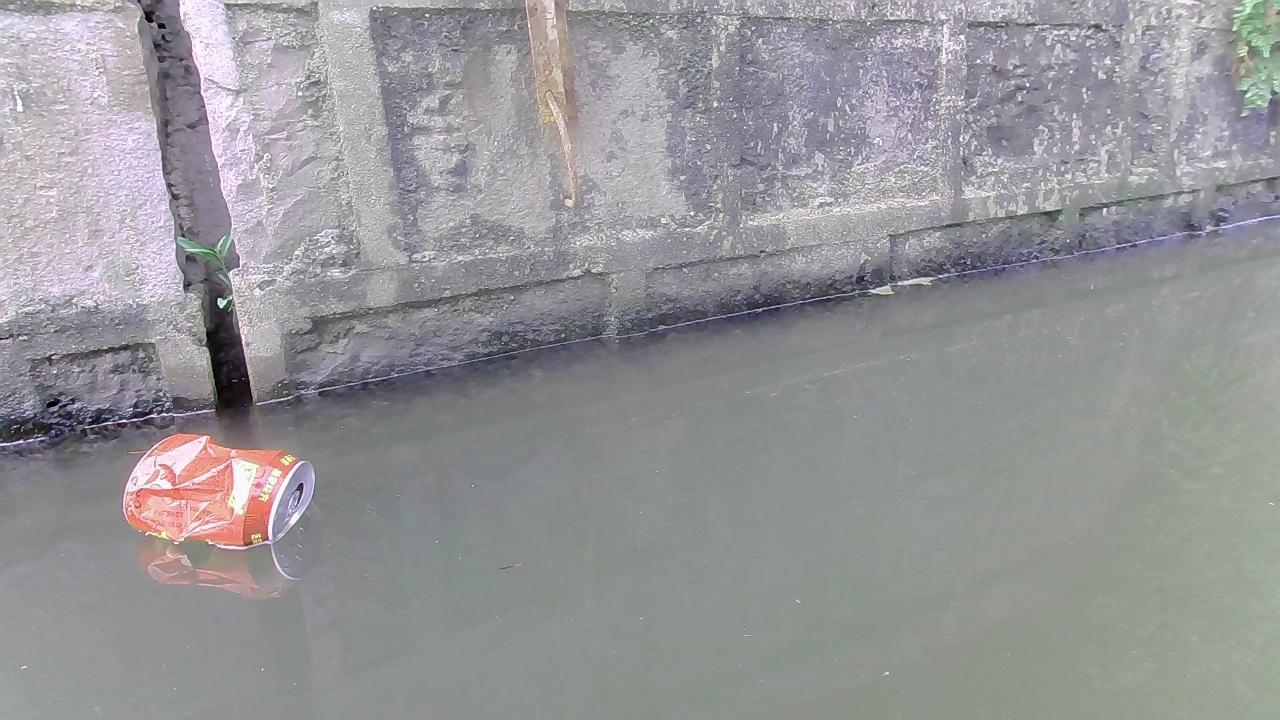Metal: (120, 430, 319, 551)
